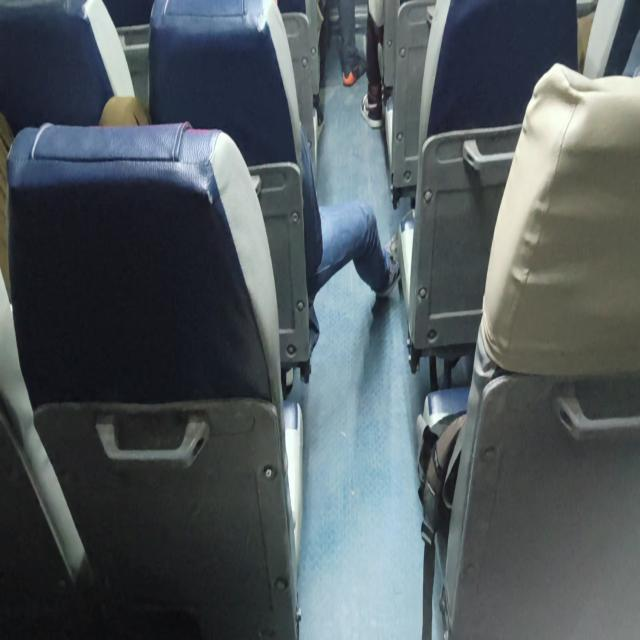person: (423, 61, 639, 637), (99, 0, 401, 385), (298, 122, 401, 382), (318, 0, 367, 88), (361, 0, 386, 129)
